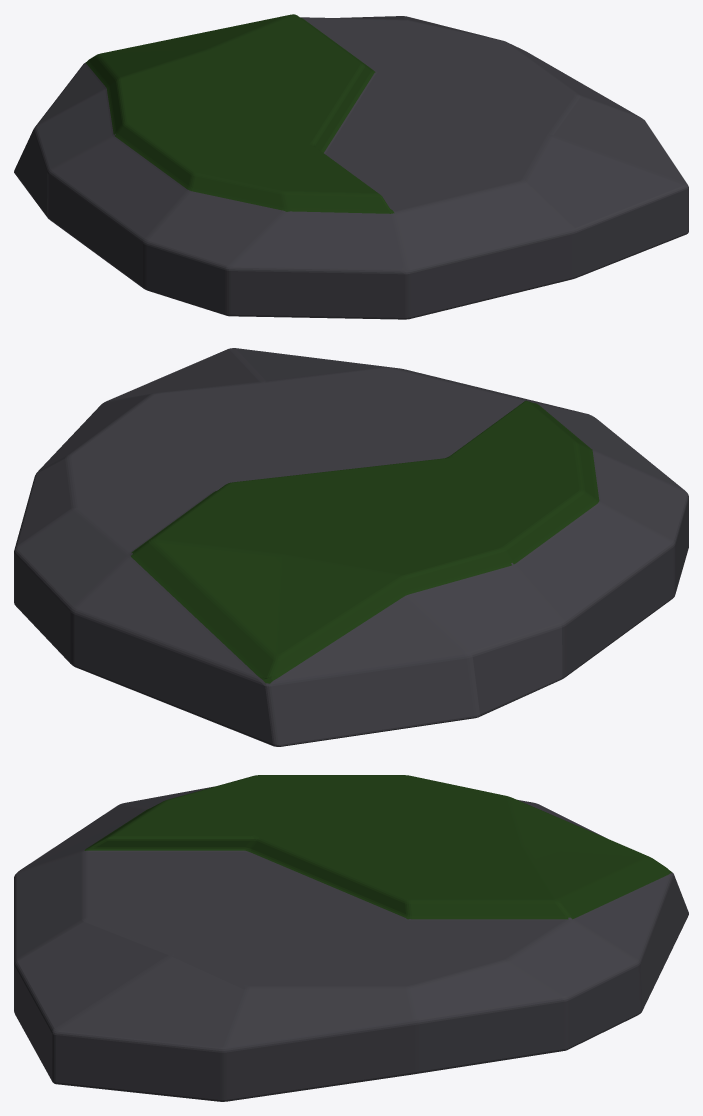
Rendered from stone1.fbx.
3 renders of one model, top to bottom at view 1: azimuth 30°, elevation 25°; view 2: azimuth 150°, elevation 25°; view 3: azimuth 270°, elevation 25°, orthographic. The views are drawn at different scales.
Visible parts, largest first — view 1: Куб.004; view 2: Куб.004; view 3: Куб.004.
Part boxes in pixels (x1,y1,x2,y2): Куб.004: (14, 14, 688, 319); Куб.004: (14, 348, 688, 746); Куб.004: (14, 775, 688, 1101).
Bounding box in the file's own units: 2 × 0.3659 × 2.15.
